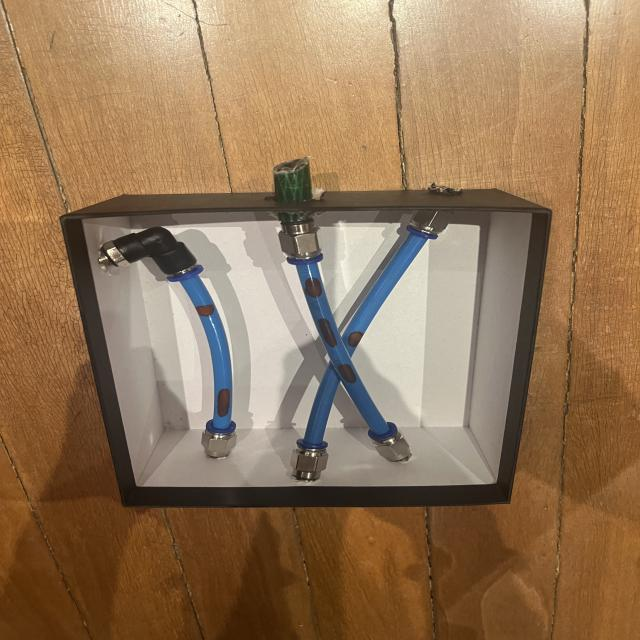hose_damage: (314, 317, 342, 351), (336, 362, 359, 384), (301, 277, 325, 298), (216, 388, 231, 417), (345, 330, 366, 348), (195, 303, 215, 318)
